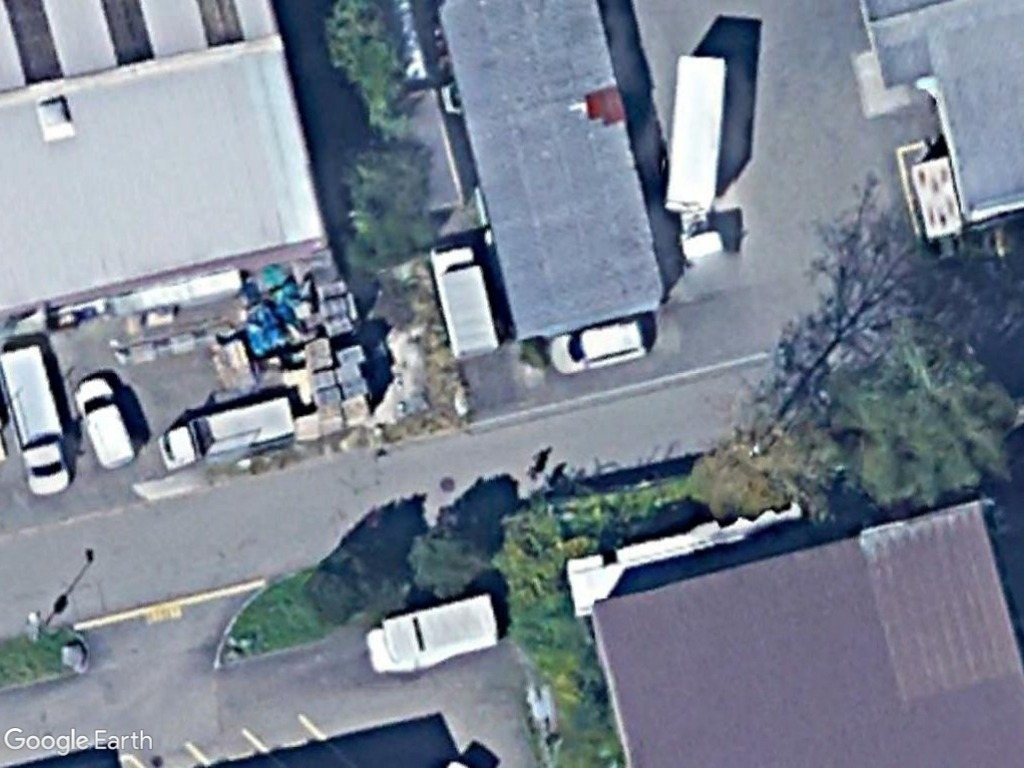car: (546, 317, 647, 376)
longvehicle: (656, 48, 731, 218)
truck: (0, 336, 71, 501), (156, 392, 295, 474), (365, 592, 498, 675), (428, 243, 504, 363)
van: (74, 374, 139, 470)
